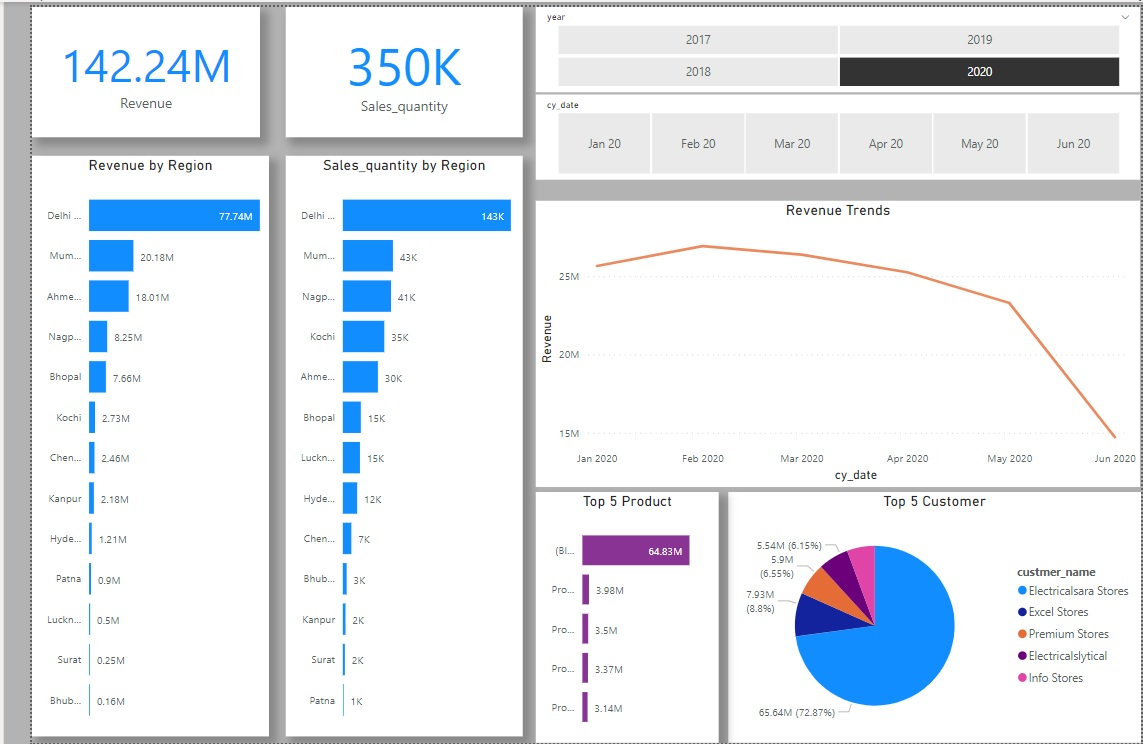

This screenshot's page, from the dashboard's own definition file:
{"tool":"powerbi","page":{"name":"Page 1","canvas":[1280,850],"ordinal":0},"visuals":[{"type":"card","fields":{"Values":["BaseMeasure.Revenue"]},"box":[0,0,263.5,150.6],"z":0},{"type":"card","fields":{"Values":["BaseMeasure.Sales_quantity"]},"box":[292.5,0,273.7,150.6],"z":1000},{"type":"barChart","title":"Revenue by Region","fields":{"Y":["BaseMeasure.Revenue"],"Category":["sales markets.markets_name"]},"box":[0,172.3,273.7,670.4],"z":2000},{"type":"barChart","title":"Sales_quantity by Region","fields":{"Y":["BaseMeasure.Sales_quantity"],"Category":["sales markets.markets_name"]},"box":[292.5,172.3,273.7,670.4],"z":3000},{"type":"slicer","fields":{"Values":["sales date.year"]},"box":[582.1,0,698,98.5],"z":4000},{"type":"slicer","fields":{"Values":["sales date.cy_date"]},"box":[582.1,101.4,698,98.5],"z":5000},{"type":"pieChart","title":"Top 5 Customer","fields":{"Category":["sales customers.custmer_name"],"Y":["BaseMeasure.Revenue"]},"box":[803.7,560.4,476.4,289.6],"z":6000},{"type":"barChart","title":"Top 5 Product","fields":{"Y":["BaseMeasure.Revenue"],"Category":["sales products.product_code"]},"box":[582.1,560.4,211.4,289.6],"z":7000},{"type":"lineChart","title":"Revenue Trends","fields":{"Y":["BaseMeasure.Revenue"],"Category":["sales date.cy_date"]},"box":[582.1,223,698,330.2],"z":8000}]}

Visuals, with their boxes in screenshot pixels (x1, y1, x2, y2), scaled from the page's 1280x850 canvas onto the 1143x744 screenshot:
card - BaseMeasure.Revenue: (x1=0, y1=0, x2=235, y2=132)
card - BaseMeasure.Sales_quantity: (x1=261, y1=0, x2=506, y2=132)
"Revenue by Region" barChart: (x1=0, y1=151, x2=244, y2=738)
"Sales_quantity by Region" barChart: (x1=261, y1=151, x2=506, y2=738)
slicer - sales date.year: (x1=520, y1=0, x2=1142, y2=86)
slicer - sales date.cy_date: (x1=520, y1=89, x2=1142, y2=175)
"Top 5 Customer" pieChart: (x1=718, y1=491, x2=1142, y2=743)
"Top 5 Product" barChart: (x1=520, y1=491, x2=709, y2=743)
"Revenue Trends" lineChart: (x1=520, y1=195, x2=1142, y2=484)
